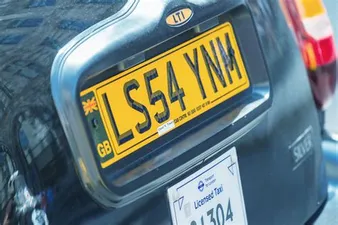number_plate: (60, 22, 289, 168)
